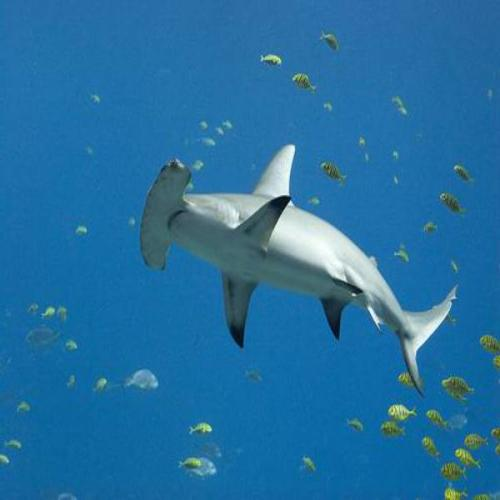shark-endangered: (139, 142, 459, 399)
